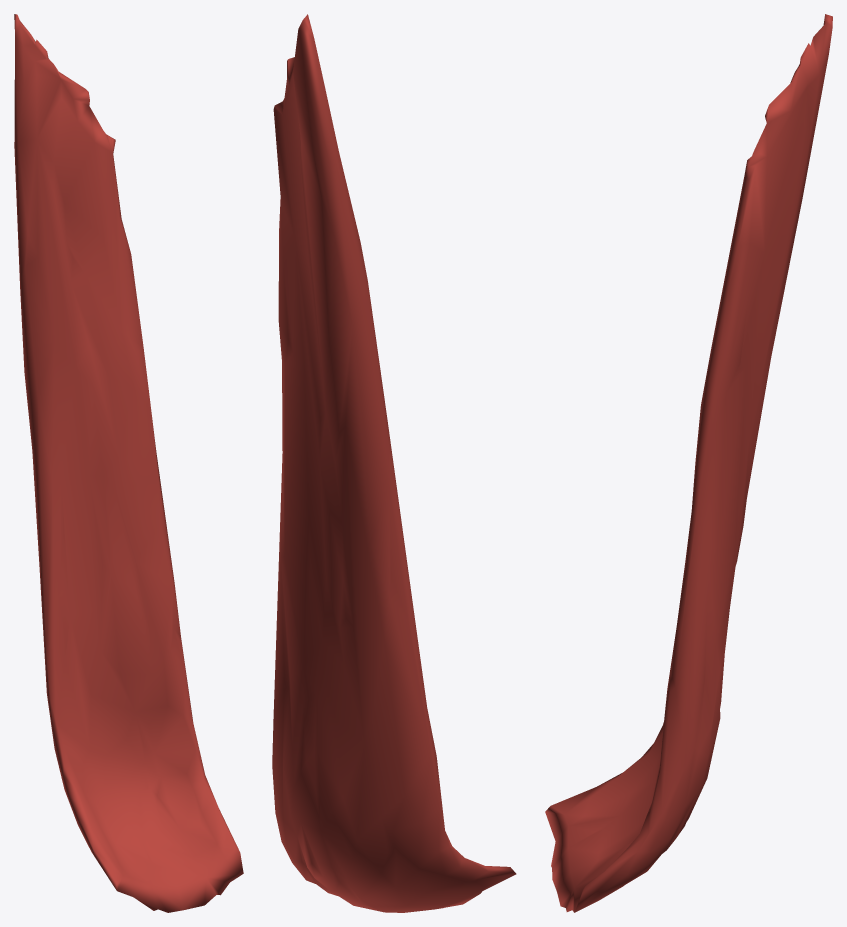
The model's file is musculos-sternothyroid-muscle-r.glb.
3 renders of one model, left to right at view 1: azimuth 30°, elevation 25°; view 2: azimuth 150°, elevation 25°; view 3: azimuth 270°, elevation 25°, orthographic. The views are drawn at different scales.
Visible parts, largest first — view 1: Sternothyroid muscle.r; view 2: Sternothyroid muscle.r; view 3: Sternothyroid muscle.r.
Boxes of the visible parts, <box> form: Sternothyroid muscle.r: <box>14,14,243,912</box>; Sternothyroid muscle.r: <box>272,14,516,912</box>; Sternothyroid muscle.r: <box>545,14,832,912</box>.
Bounding box in the file's own units: 0.018 × 0.0988 × 0.0299.
